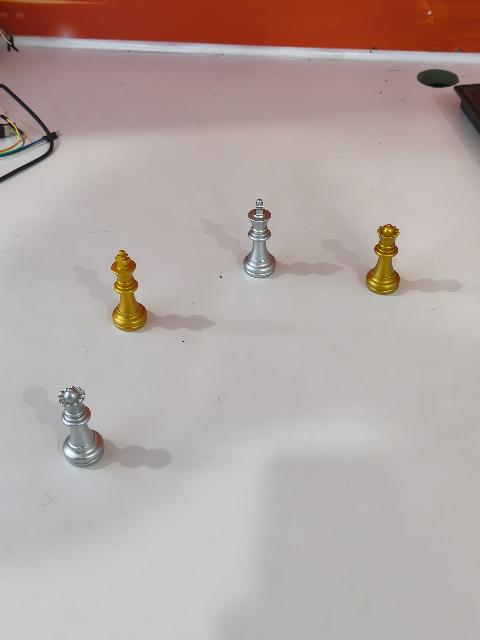black_king: (110, 249, 149, 334)
black_queen: (365, 224, 402, 297)
white_king: (242, 198, 277, 280)
white_queen: (58, 386, 105, 468)
